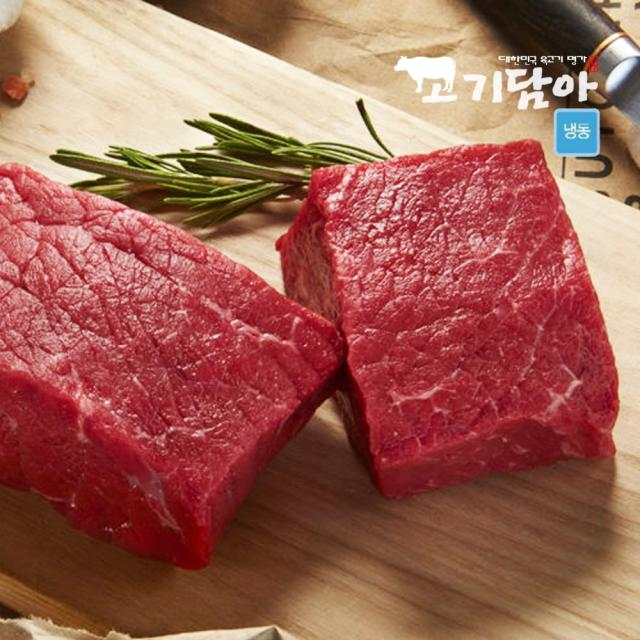beef: (21, 258, 262, 431), (371, 204, 542, 405)
